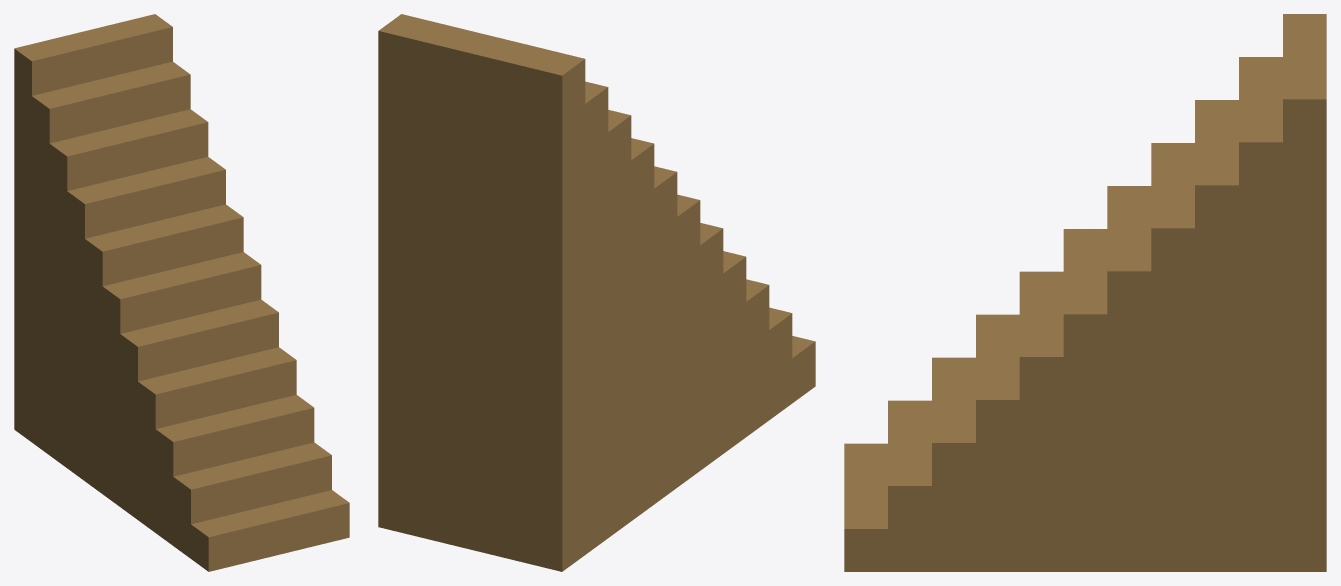
Rendered from Itr_Stair_02.FBX.
3 views of the same model, side by side, from view 1: azimuth 30°, elevation 25°; view 2: azimuth 150°, elevation 25°; view 3: azimuth 270°, elevation 25° (orthographic). The views are drawn at different scales.
Visible parts, largest first — view 1: Itr_Stair_02; view 2: Itr_Stair_02; view 3: Itr_Stair_02.
Boxes of the visible parts, left/top/right/bottom form: Itr_Stair_02: left=14, top=14, right=349, bottom=571; Itr_Stair_02: left=378, top=14, right=815, bottom=571; Itr_Stair_02: left=844, top=14, right=1326, bottom=571.
Size of the model in its own units: 41.94 by 108 by 100.
